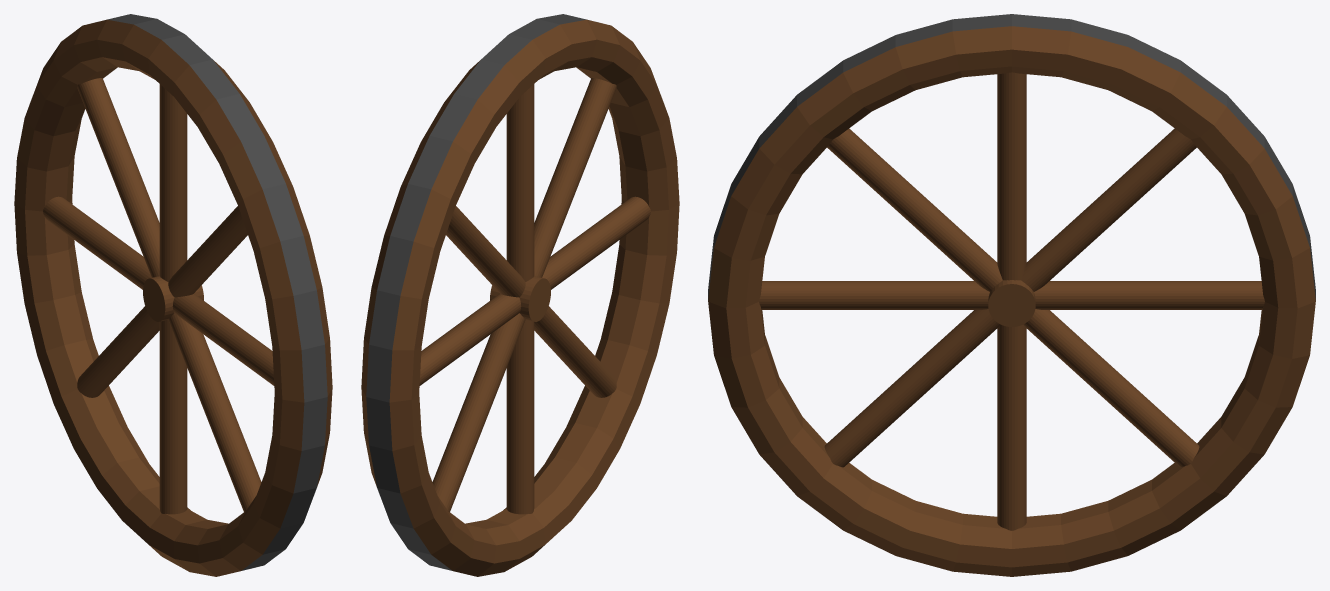
The model's file is wheel.fbx.
The picture shows the model from 3 angles, left to right: view 1: azimuth 30°, elevation 25°; view 2: azimuth 150°, elevation 25°; view 3: azimuth 270°, elevation 25°; orthographic projection. The views are drawn at different scales.
Visible parts, largest first — view 1: Cylinder.001; view 2: Cylinder.001; view 3: Cylinder.001.
Part boxes in pixels (x1,y1,x2,y2): Cylinder.001: [14, 14, 332, 576]; Cylinder.001: [361, 14, 679, 576]; Cylinder.001: [708, 14, 1315, 576].
Bounding box in the file's own units: 20.35 × 200 × 200.
